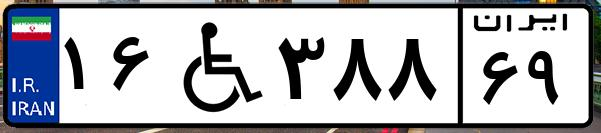1: (57, 26, 110, 100)
3: (270, 28, 330, 110)
6: (475, 38, 525, 113), (110, 28, 158, 98)
8: (385, 28, 445, 110), (330, 28, 385, 110)
9: (525, 38, 570, 115)
ژ (معلولین و جانبازان): (158, 12, 270, 120)
